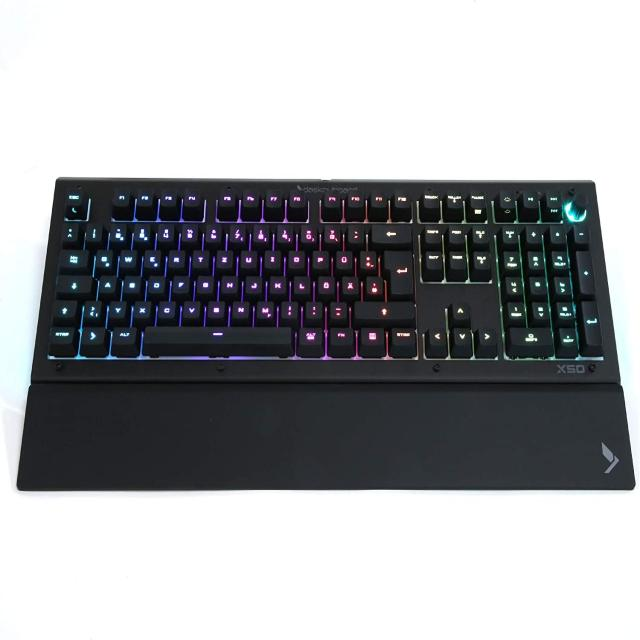0: (298, 222, 316, 243)
1: (84, 221, 104, 243)
2: (108, 221, 127, 245)
3: (132, 220, 151, 246)
4: (155, 221, 175, 244)
5: (180, 221, 199, 244)
6: (204, 222, 223, 243)
7: (228, 221, 247, 244)
8: (251, 221, 269, 244)
9: (275, 221, 294, 245)
a: (97, 273, 116, 295)
accent: (346, 222, 364, 243)
ae: (340, 274, 358, 295)
alt-left: (109, 324, 139, 355)
altgr-right: (296, 324, 325, 356)
b: (205, 298, 226, 320)
c: (156, 299, 176, 318)
caret: (60, 220, 79, 243)
comma: (279, 299, 298, 319)
d: (146, 274, 165, 294)
del: (369, 222, 411, 244)
e: (142, 247, 161, 269)
enter: (382, 247, 413, 294)
f: (171, 273, 189, 293)
g: (195, 274, 213, 294)
h: (219, 274, 238, 294)
hash: (364, 274, 383, 296)
i: (263, 248, 280, 268)
j: (244, 274, 262, 294)
k: (267, 274, 286, 294)
keyboard: (29, 174, 621, 383)
l: (292, 274, 311, 294)
less: (81, 298, 102, 322)
m: (255, 299, 274, 319)
minus: (327, 299, 347, 319)
n: (230, 298, 250, 320)
o: (286, 248, 305, 268)
oe: (316, 274, 335, 294)
p: (310, 248, 328, 268)
plus: (358, 248, 377, 270)
point: (304, 299, 322, 319)
q: (93, 247, 113, 271)
r: (166, 247, 185, 268)
s: (121, 274, 141, 295)
shift-left: (50, 299, 77, 321)
shift-lock: (54, 274, 94, 294)
shift-right: (352, 300, 414, 319)
space: (141, 323, 293, 357)
ss: (322, 222, 341, 244)
strg-left: (46, 324, 77, 356)
strg-right: (388, 325, 418, 357)
t: (191, 248, 209, 268)
tab: (56, 248, 89, 271)
u: (239, 247, 257, 268)
ue: (334, 248, 352, 269)
v: (182, 298, 201, 318)
w: (117, 247, 137, 270)
x: (132, 299, 151, 319)
y: (109, 300, 128, 320)
z: (214, 247, 233, 268)
